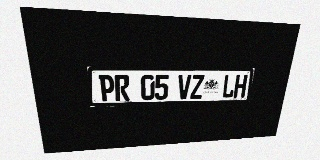0: (141, 75, 155, 100)
5: (155, 75, 169, 100)
H: (233, 75, 248, 98)
L: (222, 75, 236, 98)
P: (99, 75, 115, 101)
R: (114, 75, 130, 101)
V: (177, 75, 191, 99)
Z: (190, 75, 204, 99)
